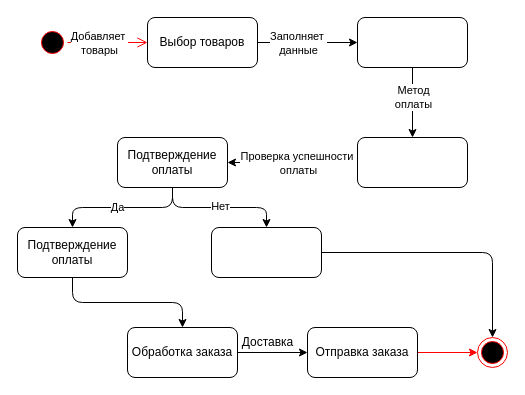
The diagram is 525 pixels wide and 395 high, and some of its shapes have lost their labels. Here are the shapes that lost their labels. From the top down, the box of each, then its label:
(356, 16, 468, 68): Оформление заказа
(356, 136, 468, 188): Оплата
(210, 226, 322, 278): Оплата не прошла
